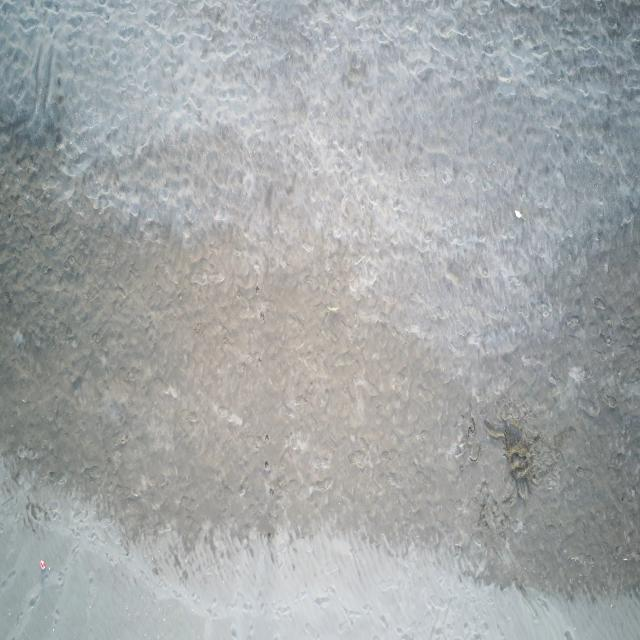tin-and-aluminum-cans: (40, 561, 45, 571)
